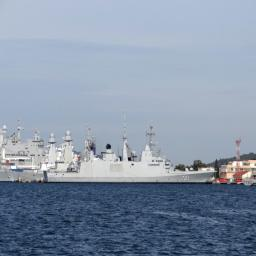Fragata: (43, 124, 219, 186)
